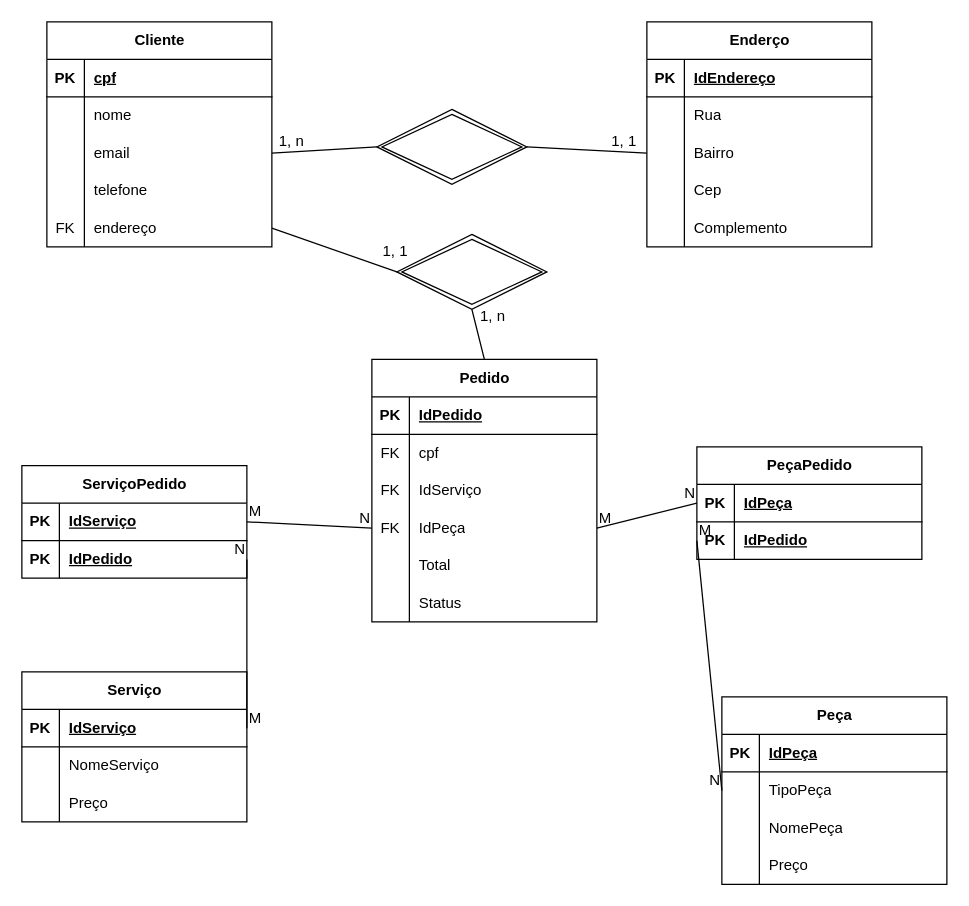
Image size: 969x906. Some labels were removed from this diagram. The centre of each missing label's shape, as x and y in pixels:
"Faz" goes at point 471,271.
"Tem" goes at point 451,146.
